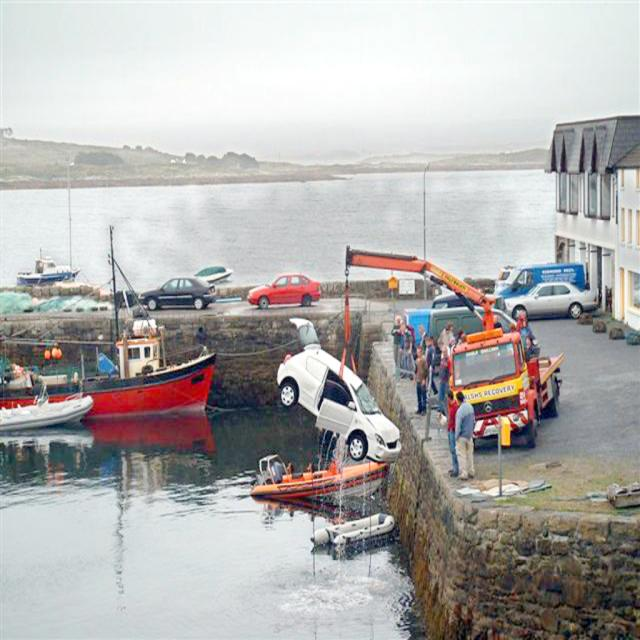car: (133, 268, 219, 306), (243, 272, 319, 311)
